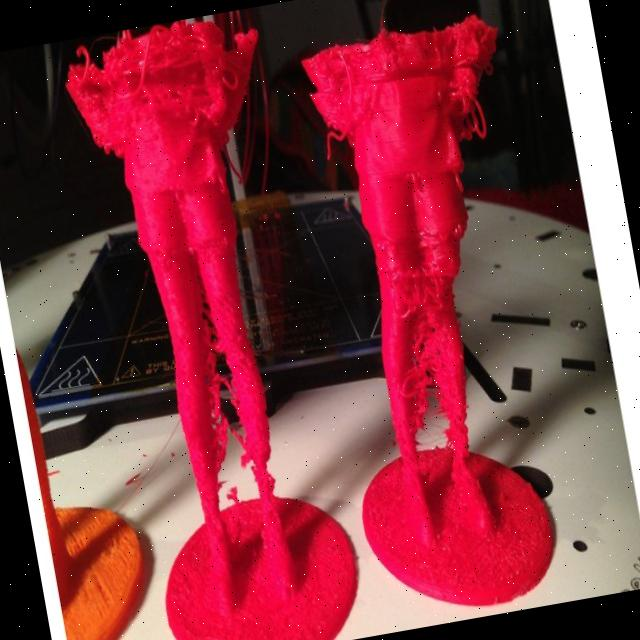spaghetti: (54, 8, 274, 176), (295, 8, 510, 148), (390, 288, 470, 452)
